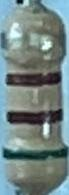Black: (5, 107, 62, 124)
Brown: (6, 69, 64, 87)
Green: (1, 145, 68, 161)
Side-Silver: (1, 29, 66, 51)
